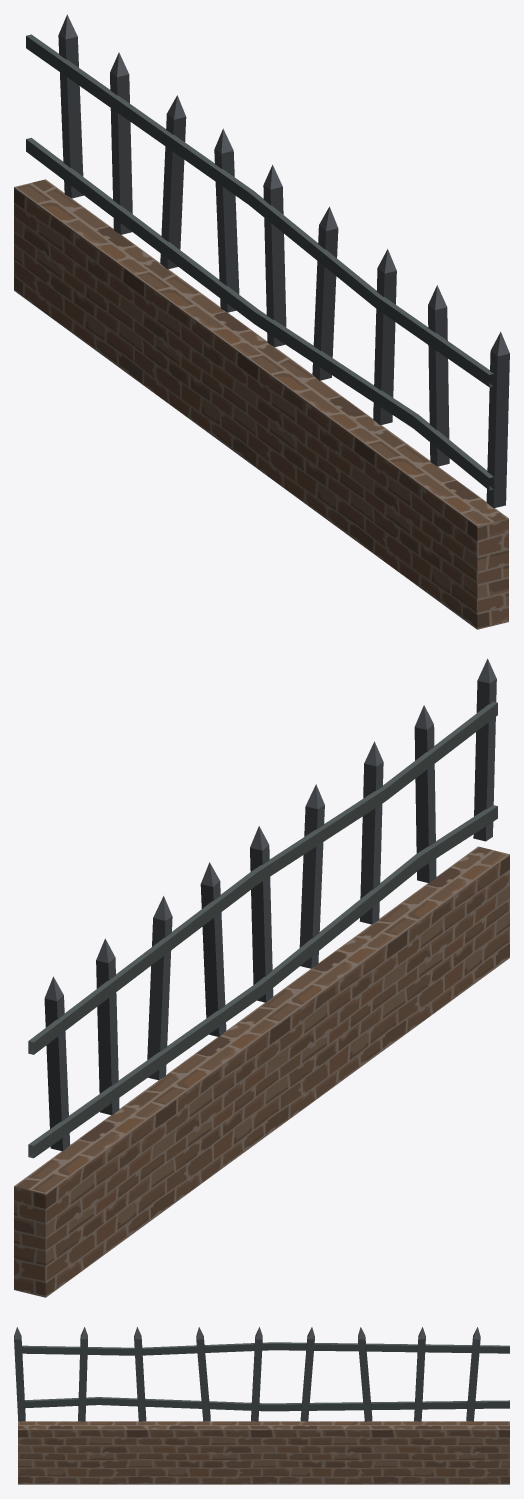
Rendered from Wall_02.fbx.
3 views of the same model, one above another, from view 1: azimuth 30°, elevation 25°; view 2: azimuth 150°, elevation 25°; view 3: azimuth 270°, elevation 25° (orthographic). The views are drawn at different scales.
Parts seen in each view (by area): view 1: Wall_02; view 2: Wall_02; view 3: Wall_02.
Boxes of the visible parts, bbox=[...] form: Wall_02: bbox=[14, 14, 509, 629]; Wall_02: bbox=[14, 658, 509, 1297]; Wall_02: bbox=[14, 1327, 509, 1484].
Size of the model in its own units: 23.75 by 210 by 605.
1 material, 1 textured.
